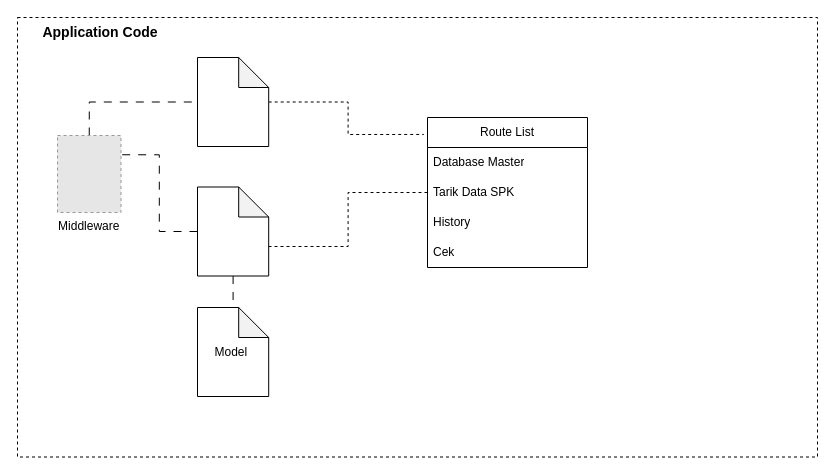
The diagram is 835 pixels wide and 475 high, and some of its shapes have lost their labels. Grey dashed boxes stand in for pictures. The shapes that lost their labels are listed below. From the top down, each one's box as (x1, y1, x2, y2) in pixels, then its label:
(196, 56, 269, 146): Route
(196, 186, 269, 276): Controller
